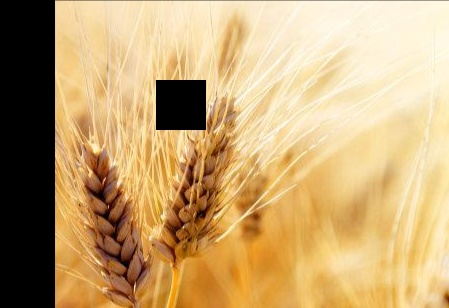wheat: (161, 36, 270, 287), (57, 104, 154, 305)
